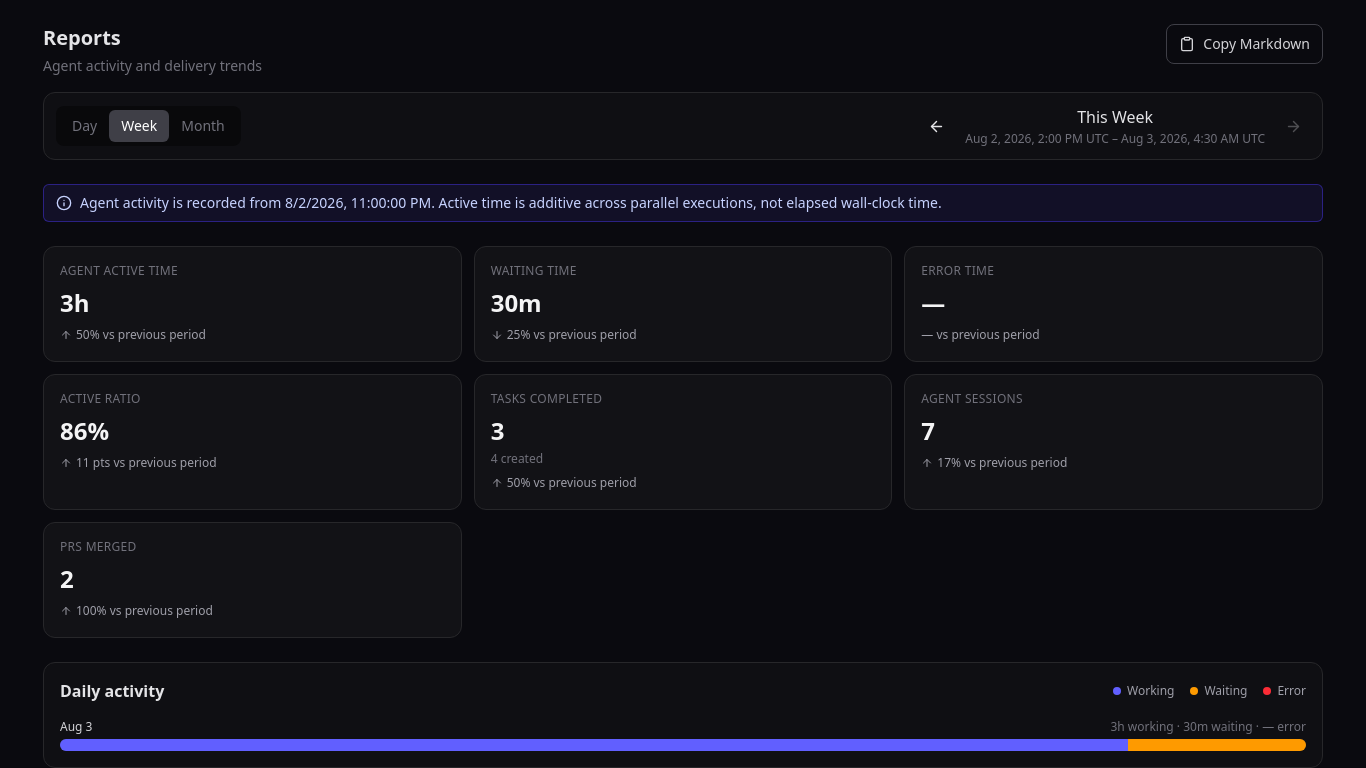
Test: ReportsPage › ignores a stale navigation response after a newer period loads
Expected: the heading "This Week" is shown, [1077,106,1153,128]
Click the button named "Previous period" at [937, 126], box [920,110,953,142]
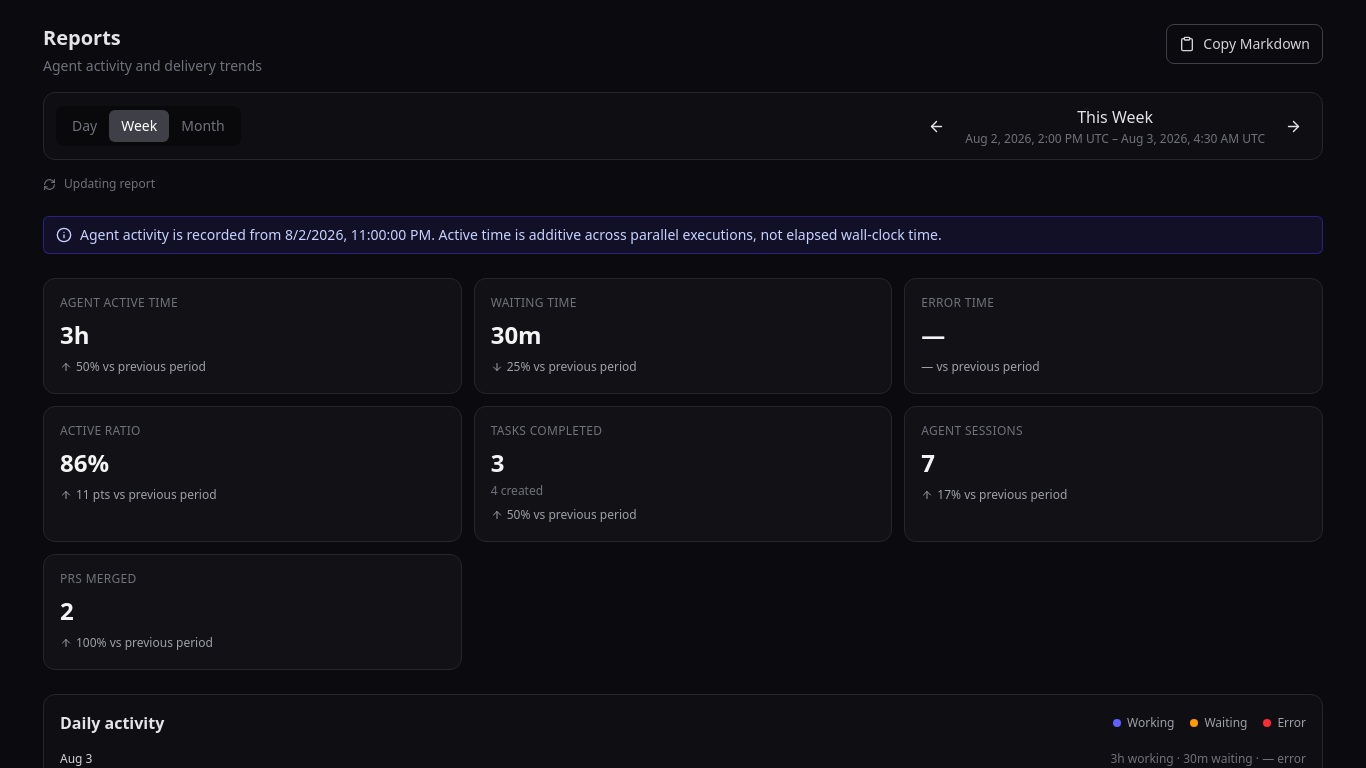
Click the button "Month" at [203, 126], box [169,110,237,142]
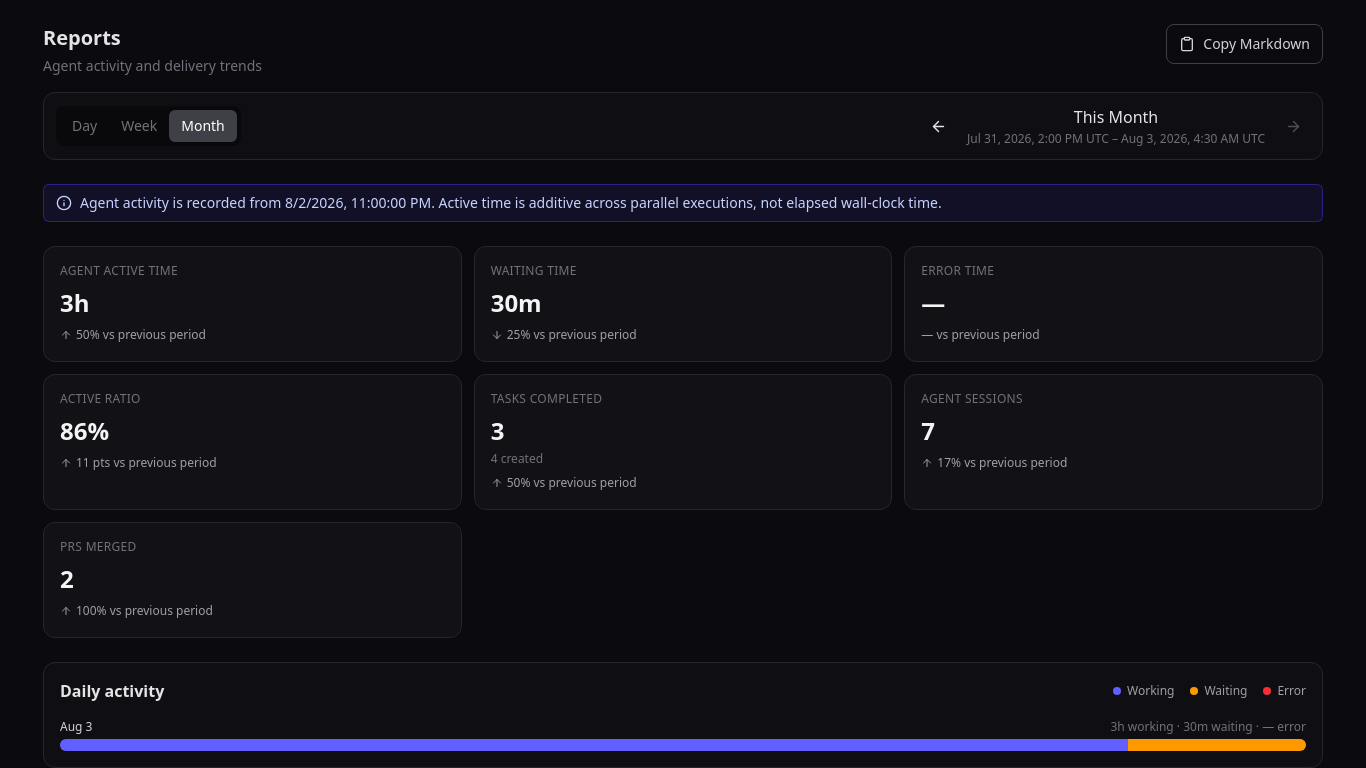
Expected: the heading "This Month" is shown, [1074,106,1158,128]
